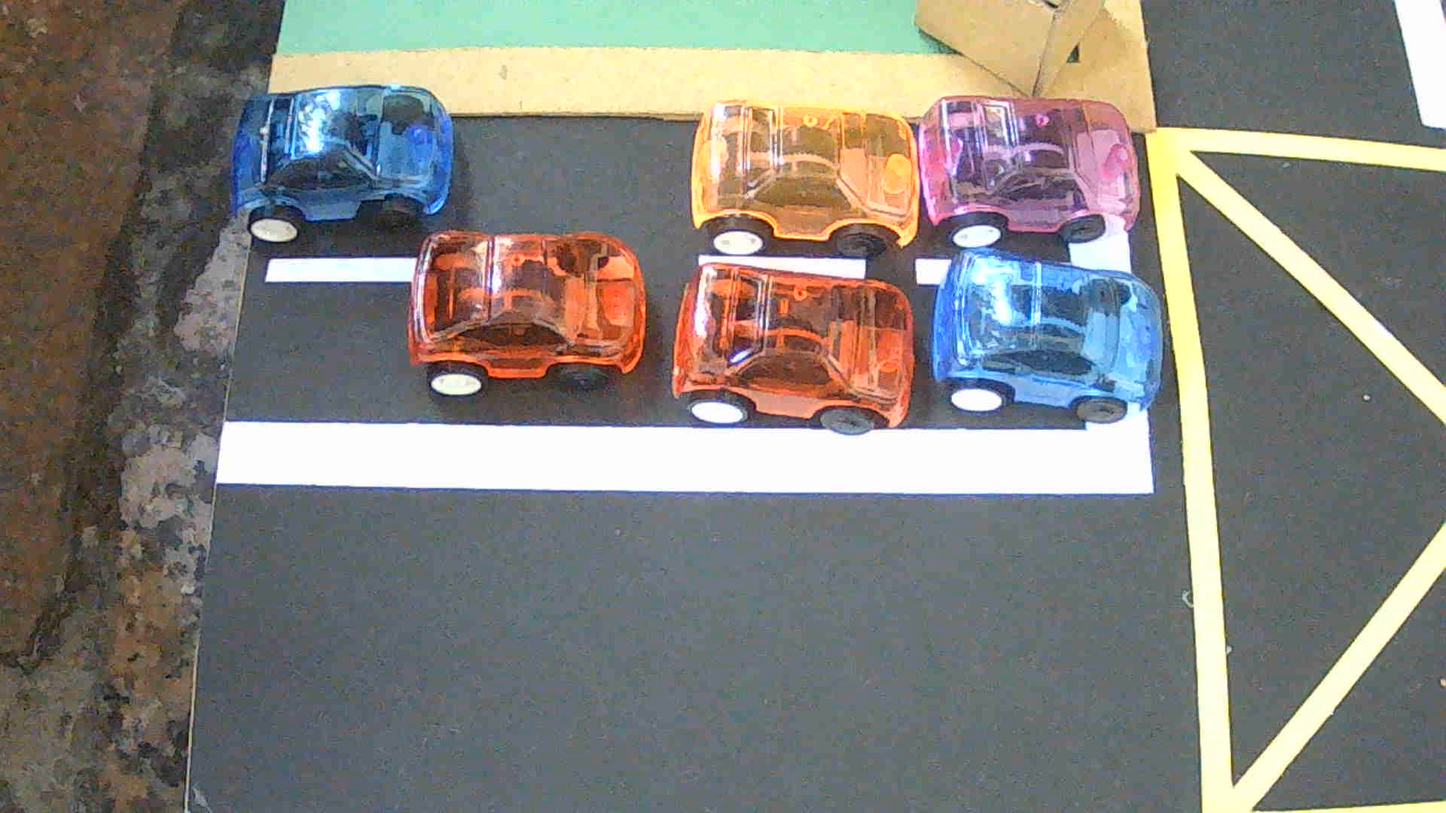Mobil biru: (932, 250, 1162, 423), (232, 84, 453, 242)
Mobil merah: (672, 262, 914, 434), (407, 230, 645, 396)
Mobil orange: (691, 101, 919, 257)
Mobil ungu: (918, 96, 1139, 247)
